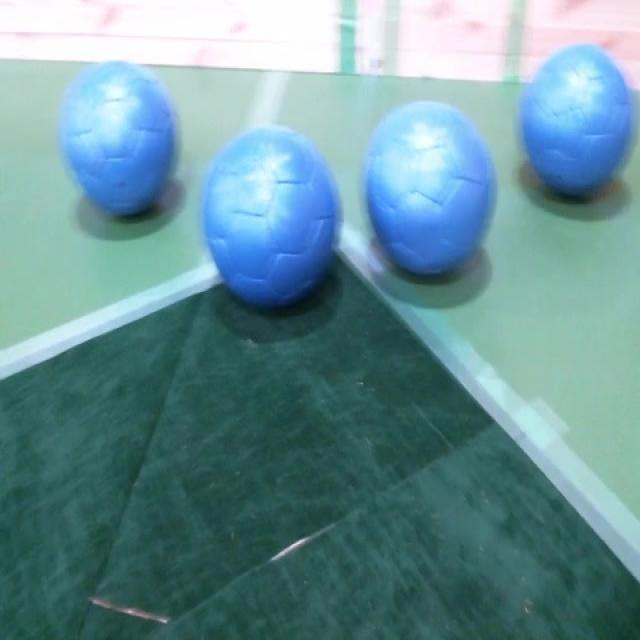blue_ball: (200, 121, 341, 319), (364, 103, 499, 286), (58, 58, 177, 220), (518, 44, 632, 202)
